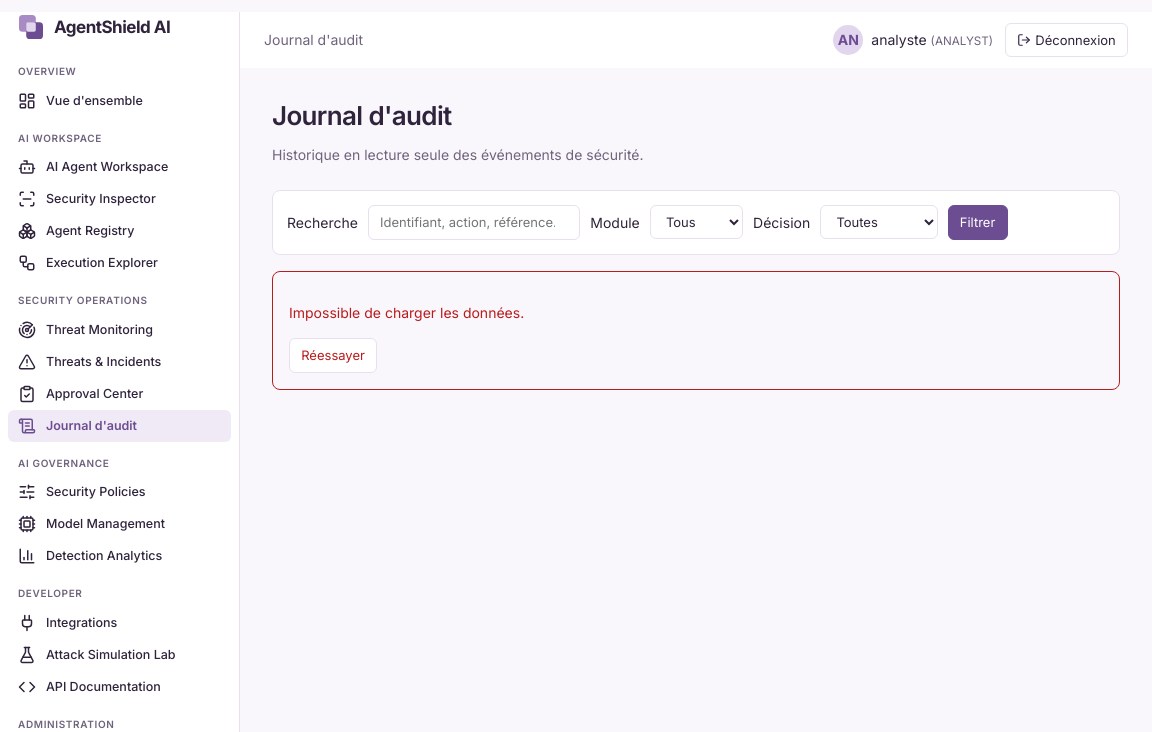
it: AuditTrail › gère l'erreur avec une nouvelle tentative
This screenshot has width=1152, height=732.
Expected: the message "Impossible de charger les données. Réessayer" is shown, x1=272 y1=271 x2=1120 y2=390
Click the button "Réessayer": (333, 355) x1=289 y1=338 x2=377 y2=372
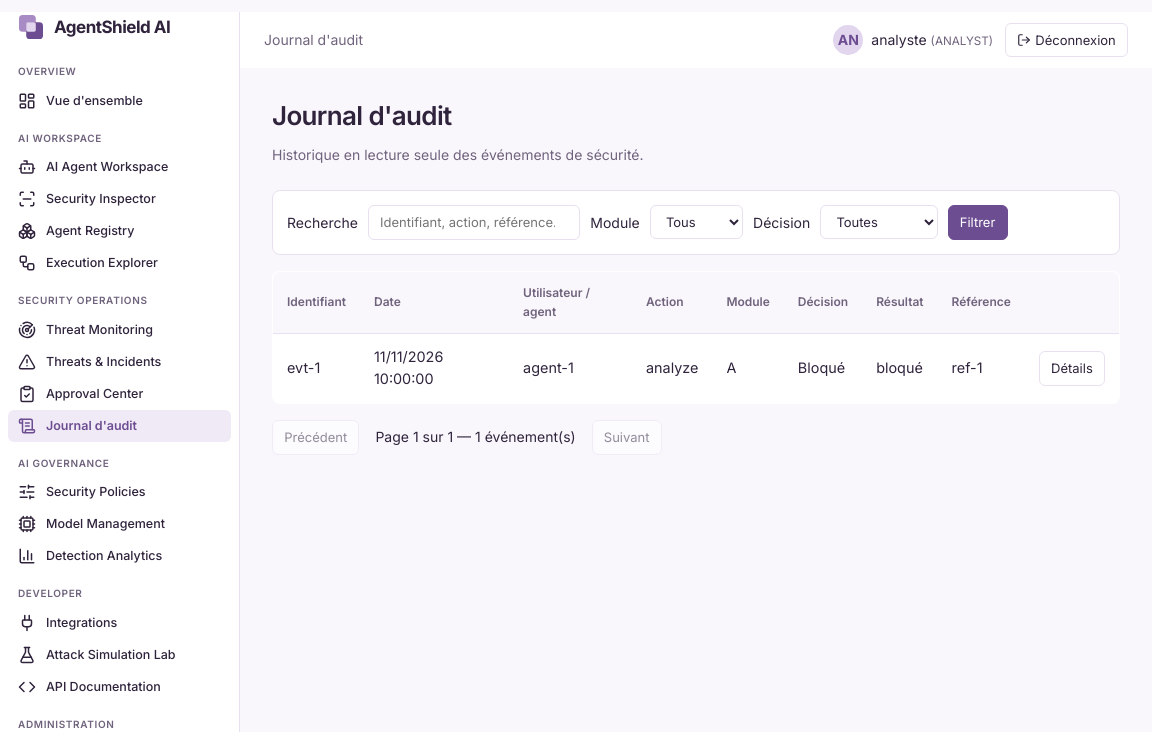
Now the text "evt-1" is shown, box x1=272 y1=334 x2=360 y2=403
